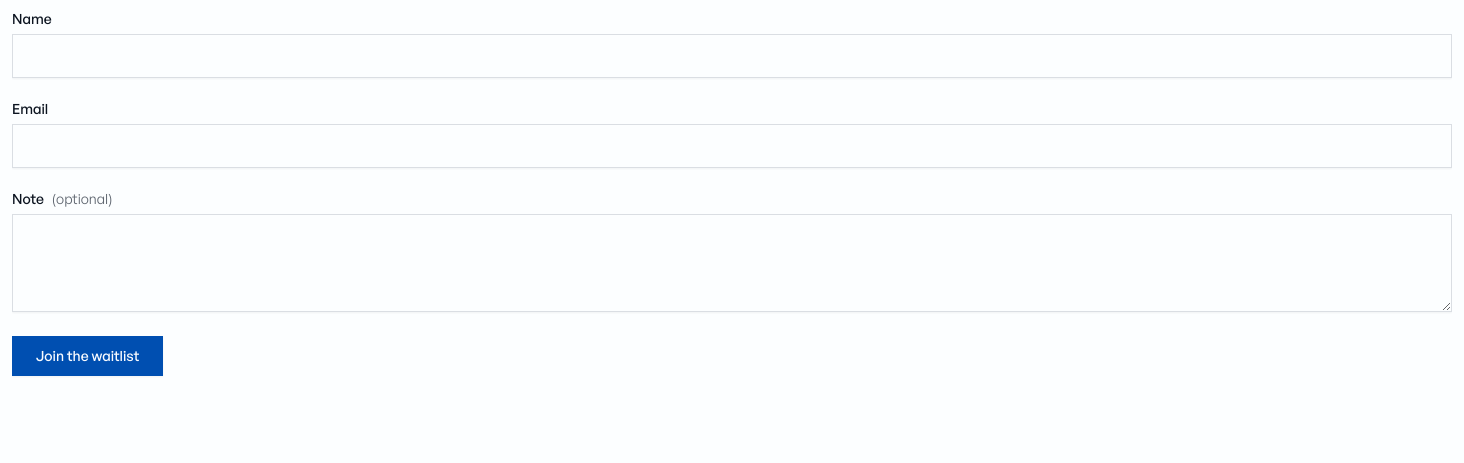
WaitlistForm › shows the 'Already received' message and does not route when the backend reports a duplicate
The image size is (1464, 463).
Expected: the button "Join the waitlist" is shown, [12, 336, 163, 376]
Type "Grace Hopper" into the field labelled "Name" at (732, 56), box [12, 34, 1452, 78]
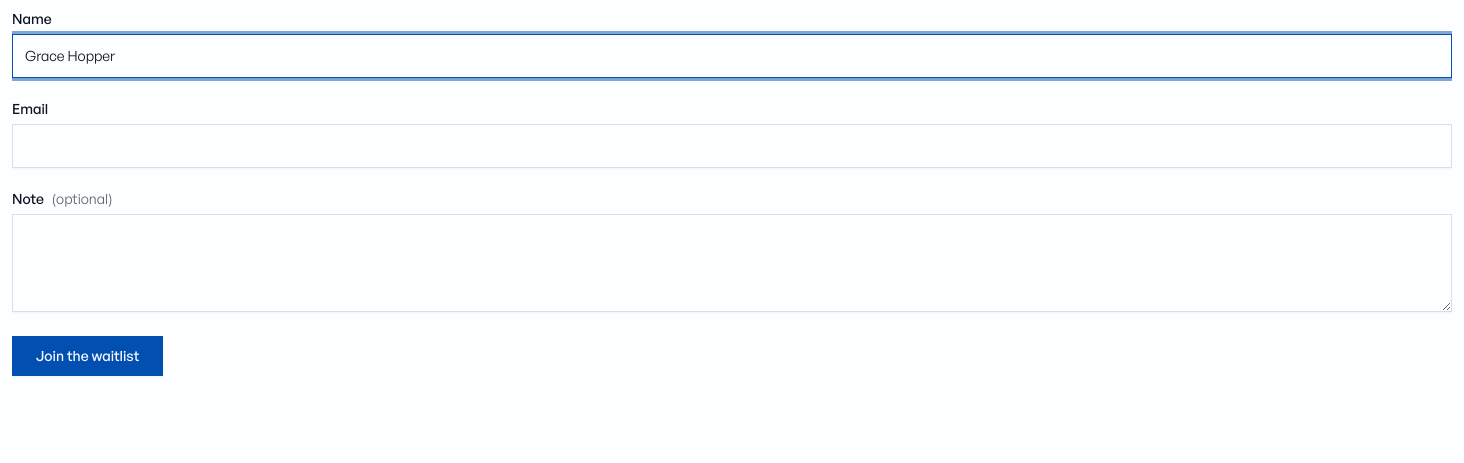
Expected: the button "Join the waitlist" is shown, [12, 336, 163, 376]
Type "grace@example.com" into the field labelled "Email" at (732, 146), box [12, 124, 1452, 168]
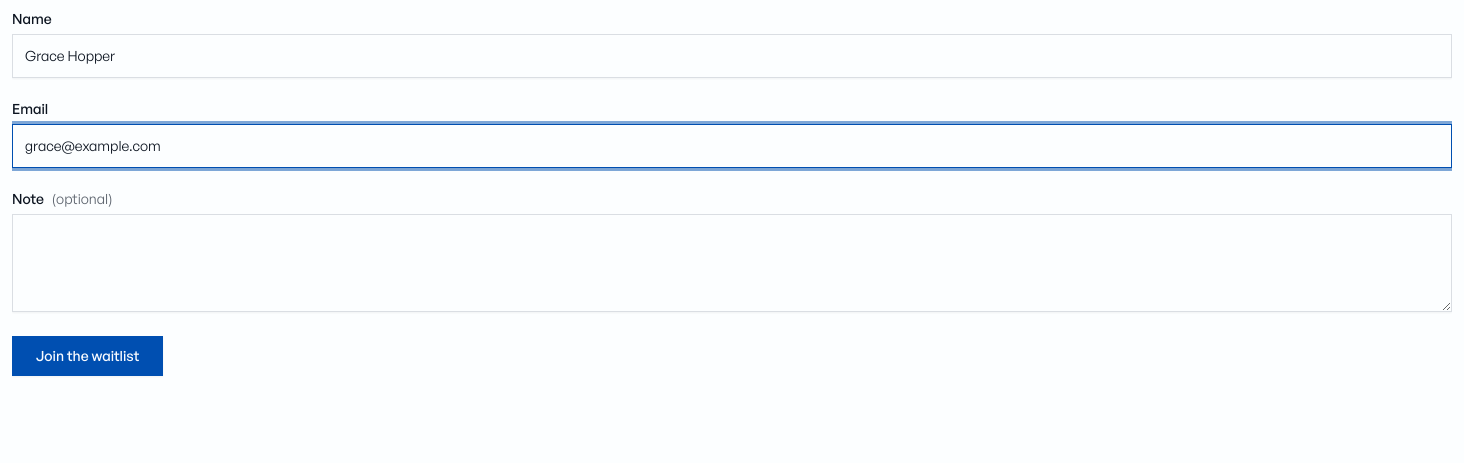
Type "Interested in early access." into the text box labelled "Note (optional)" at (732, 263), box [12, 214, 1452, 312]
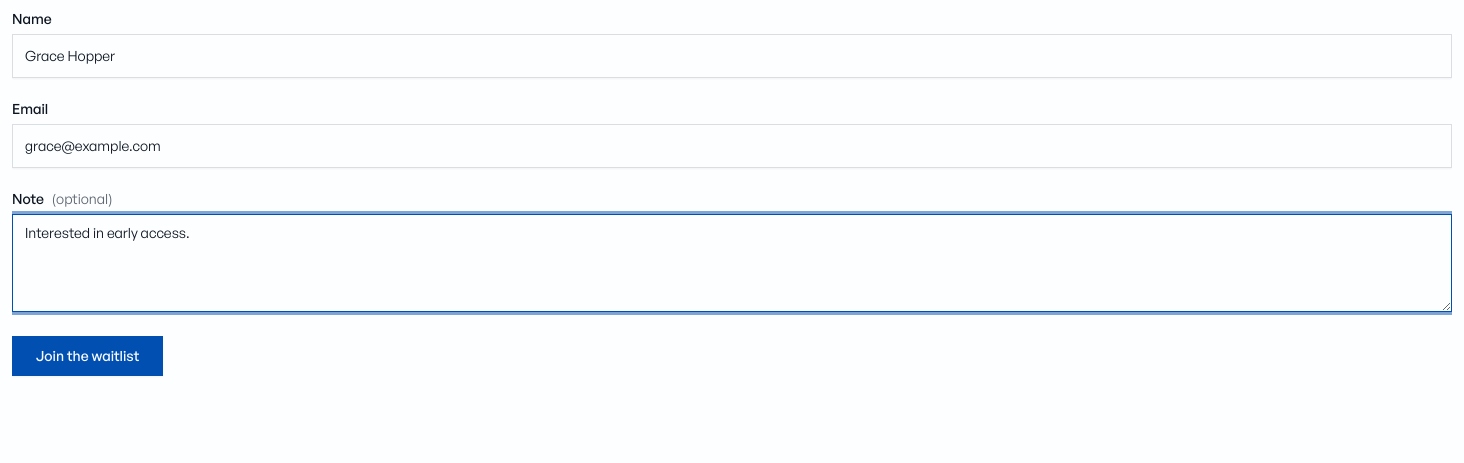
Click the button "Join the waitlist" at (88, 356), box [12, 336, 163, 376]
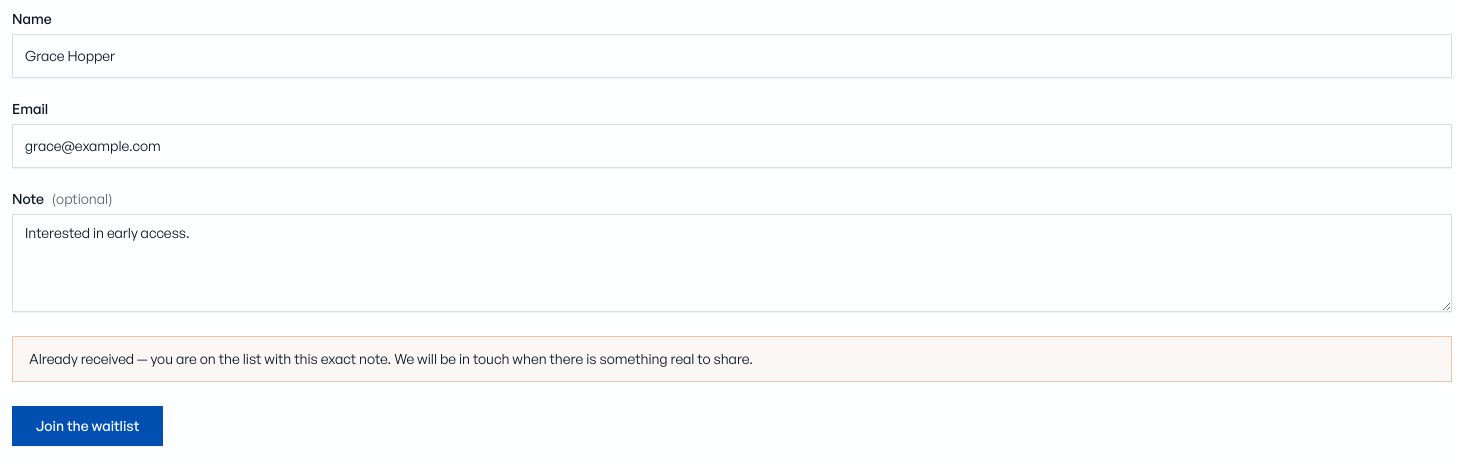
Now the text with test id "waitlist.already_received_state" is shown, box [12, 336, 1452, 382]
Now the text "Already received" is shown, box [29, 350, 753, 367]
